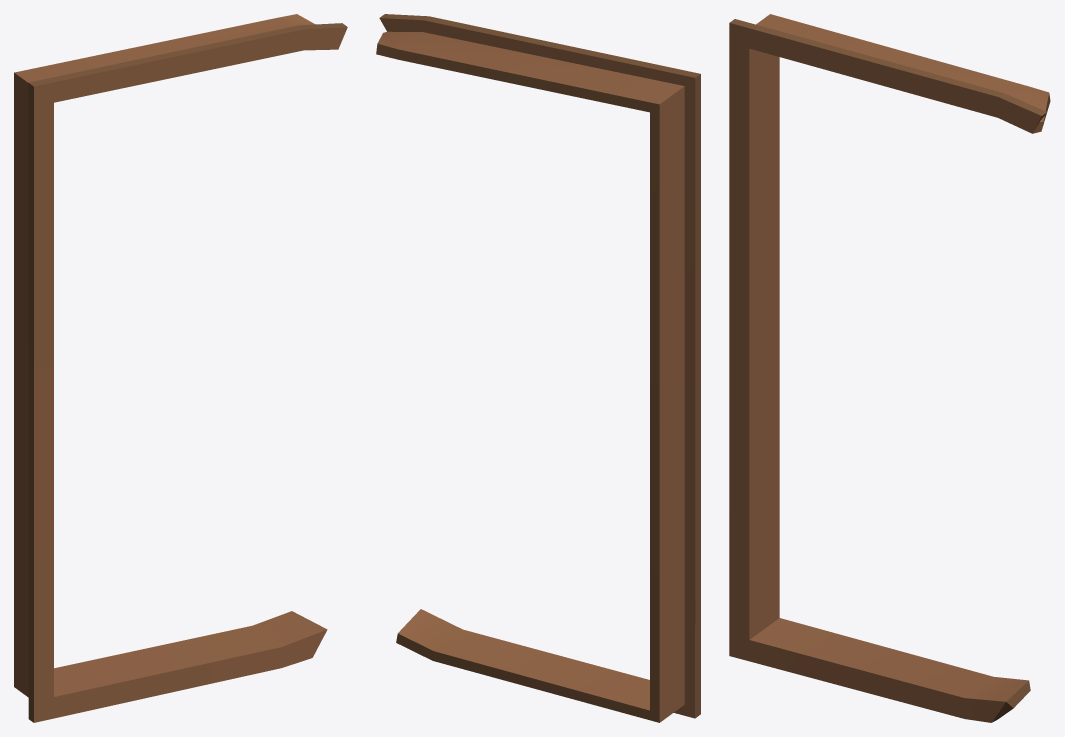
The model's file is DBK_WinBig_Trim_A_Side.fbx.
The picture shows the model from 3 angles, left to right: view 1: azimuth 30°, elevation 25°; view 2: azimuth 150°, elevation 25°; view 3: azimuth 330°, elevation 25°; orthographic projection.
Parts seen in each view (by area): view 1: DBK_WinBig_Trim_A_Side; view 2: DBK_WinBig_Trim_A_Side; view 3: DBK_WinBig_Trim_A_Side.
Part boxes in pixels (left/top/right/bottom): DBK_WinBig_Trim_A_Side: left=14, top=14, right=347, bottom=722; DBK_WinBig_Trim_A_Side: left=376, top=14, right=700, bottom=722; DBK_WinBig_Trim_A_Side: left=729, top=14, right=1050, bottom=722.
Bounding box in the file's own units: 116 × 224 × 24.28.
